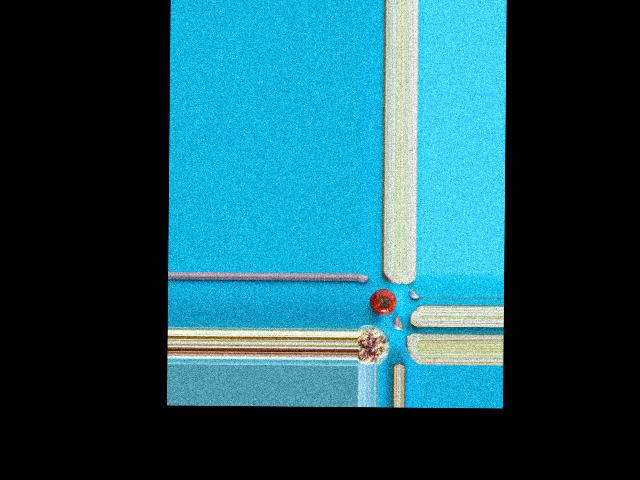tomato: (369, 288, 396, 314)
